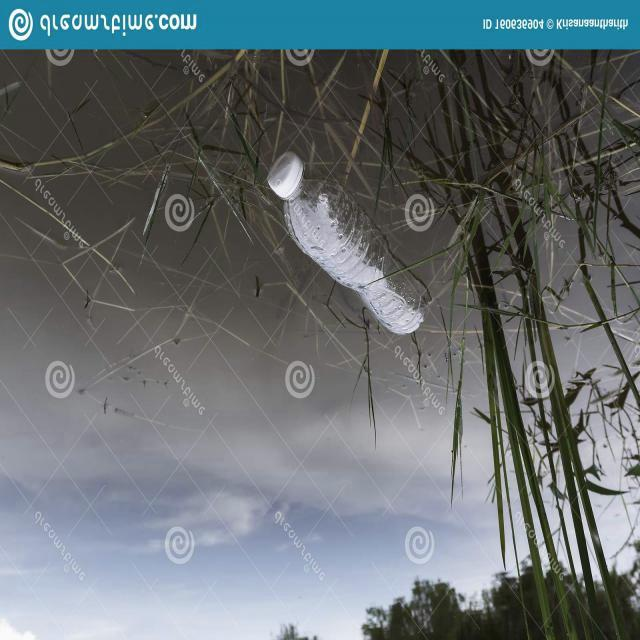Plastic: (264, 149, 435, 336)
